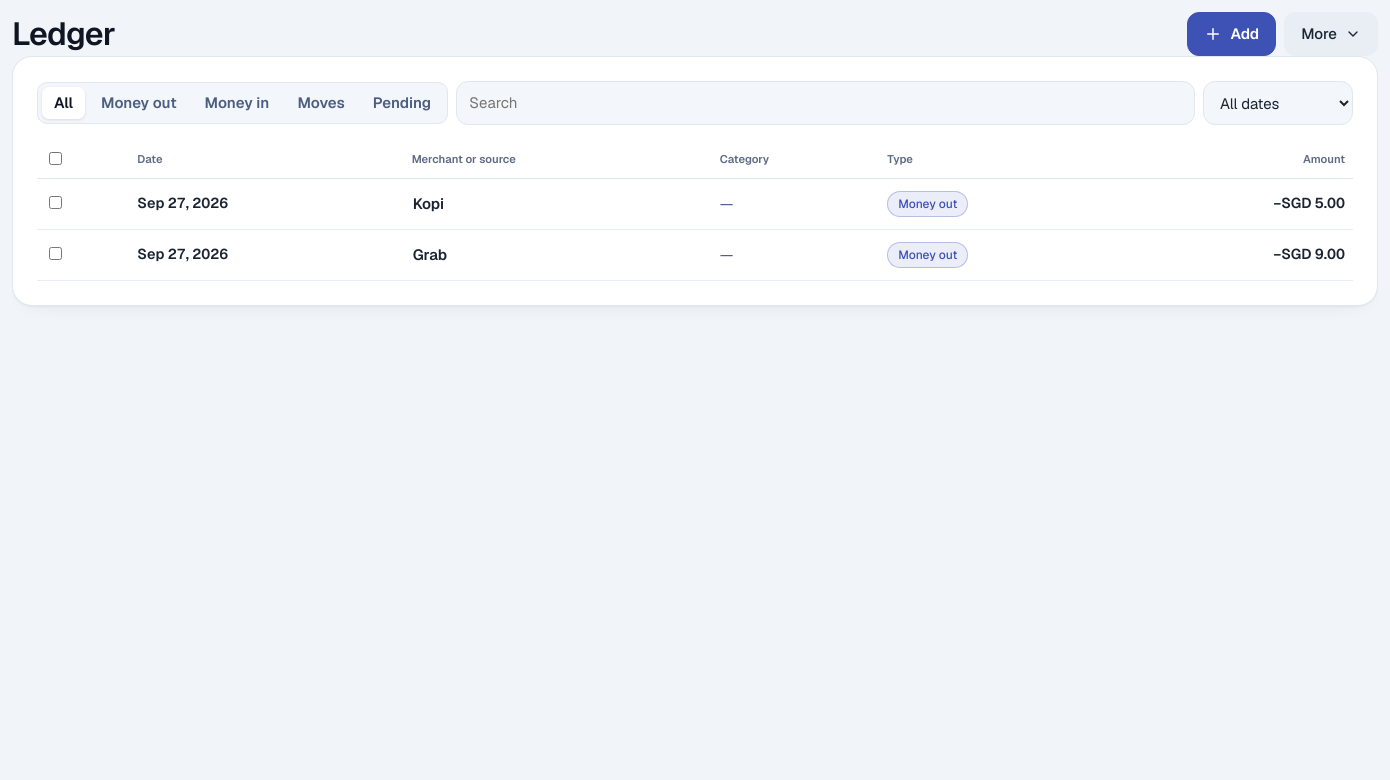
Test case: Ledger › bulk deletes after confirming and can undo
The image size is (1390, 780).
Click the checkbox named "Select Kopi".
click(56, 202)  # box [49, 196, 62, 208]
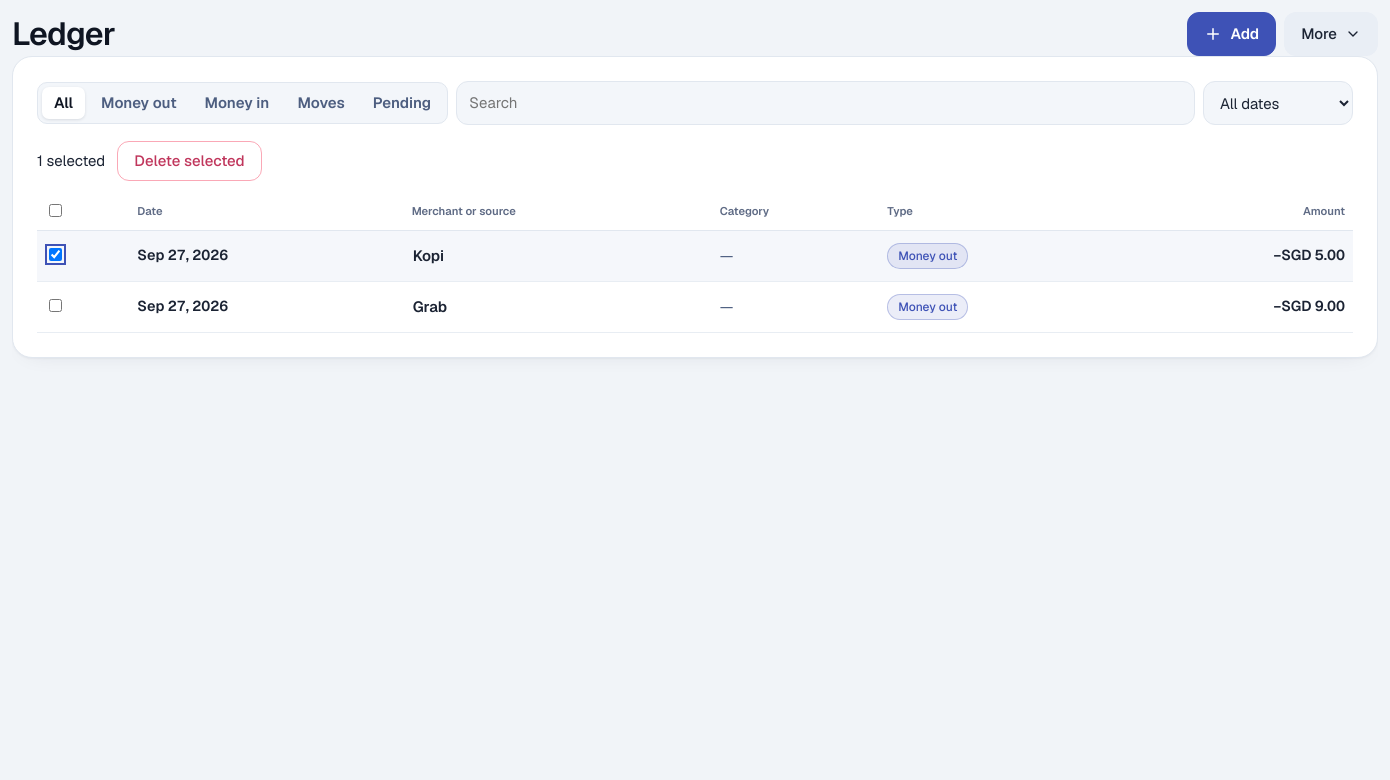
Click the button "Delete selected".
click(190, 161)  # box [117, 141, 262, 181]
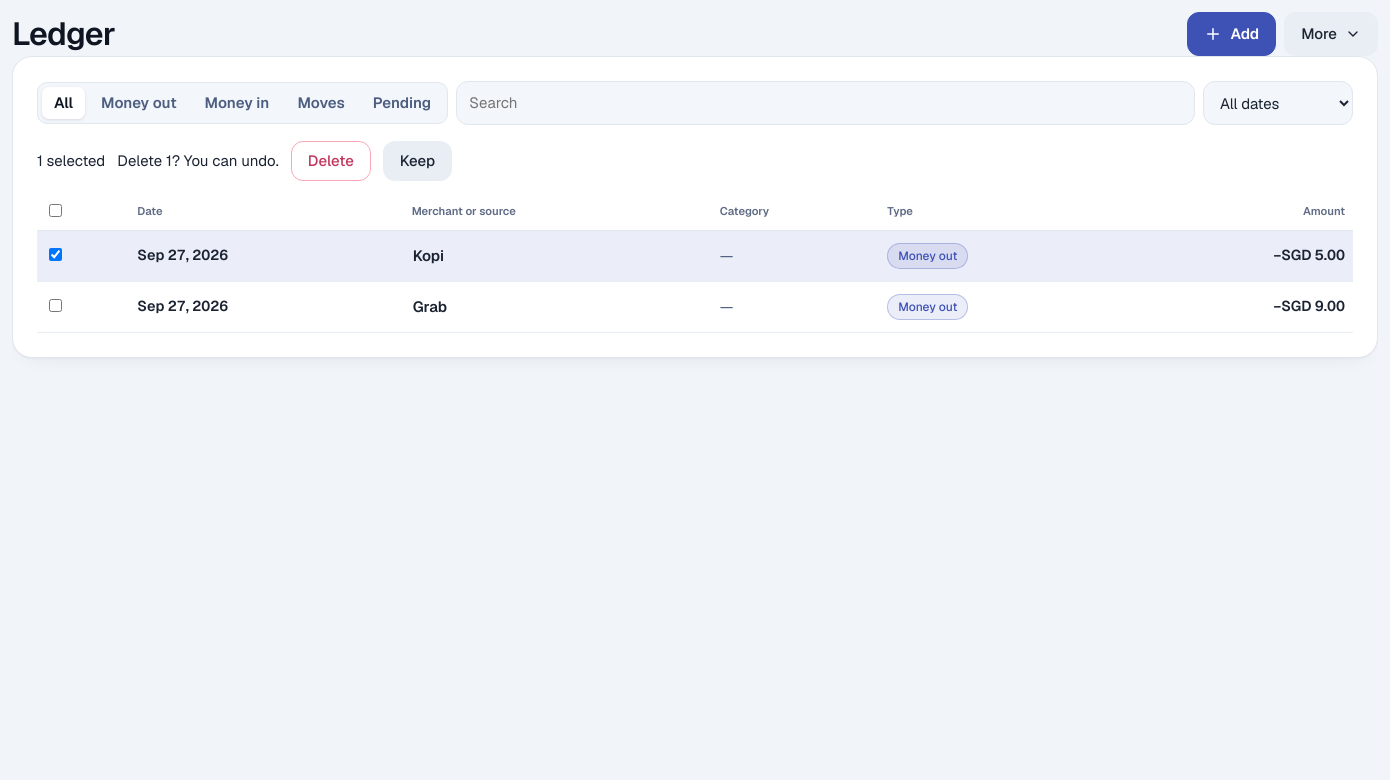
Click the button "Delete".
click(331, 161)  # box [291, 141, 371, 181]
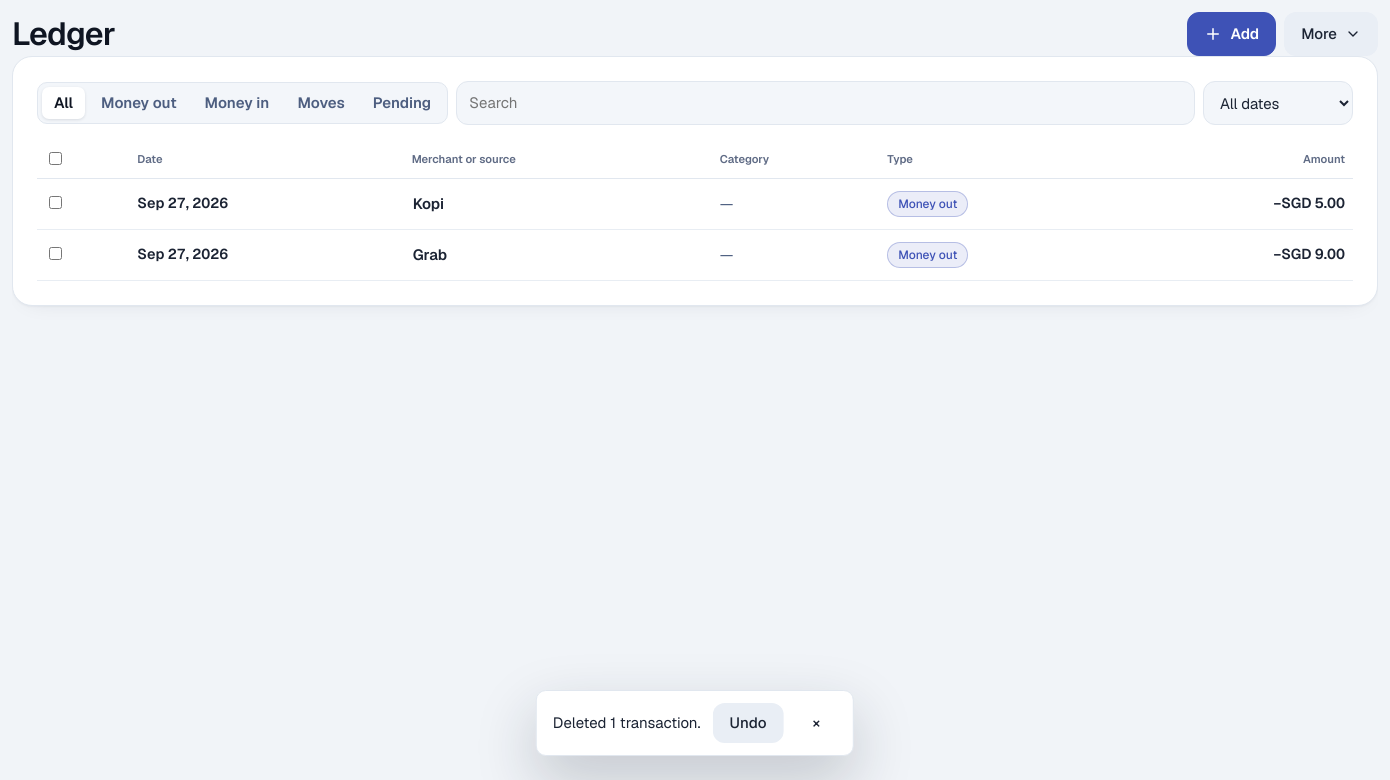
Expected: the text "Deleted 1 transaction." is shown, [553, 712, 701, 734]
Click the button "Undo".
click(748, 723)  # box [713, 703, 784, 743]
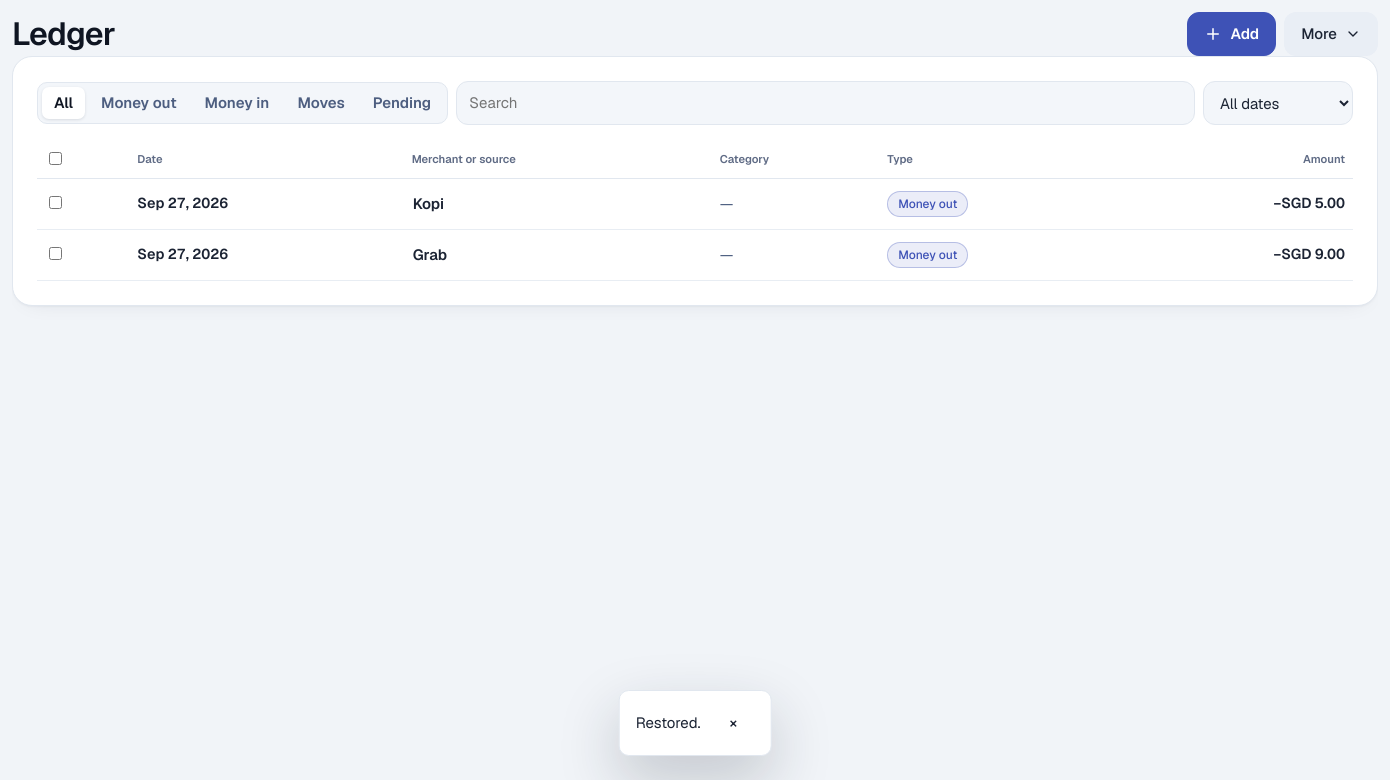
Expected: the text "Restored." is shown, [636, 712, 701, 734]
